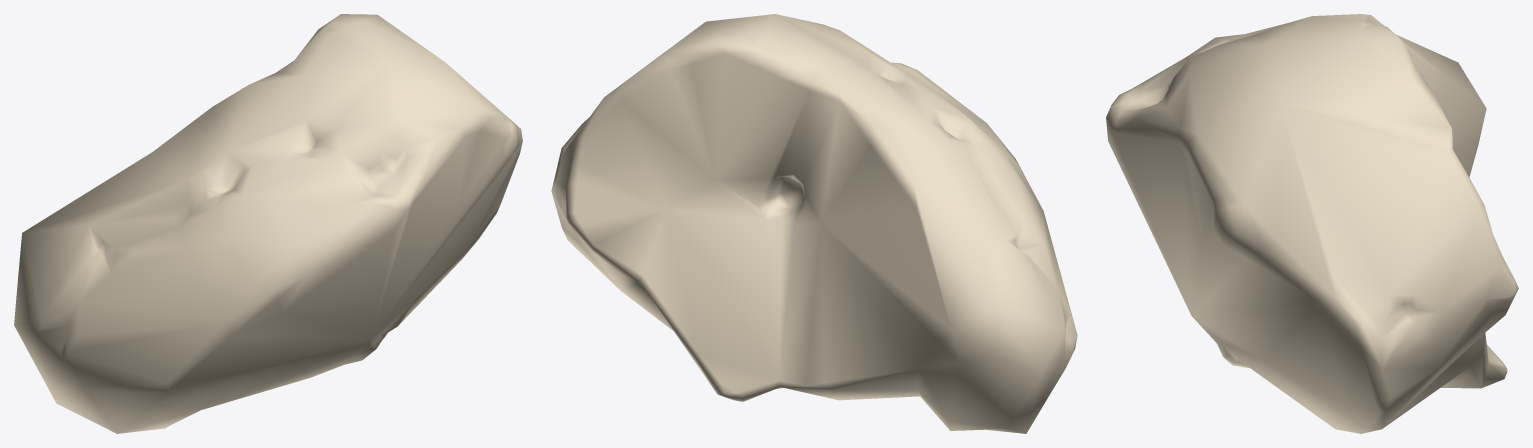
Rendered from navicular-bone-l.glb.
The picture shows the model from 3 angles, left to right: view 1: azimuth 30°, elevation 25°; view 2: azimuth 150°, elevation 25°; view 3: azimuth 270°, elevation 25°; orthographic projection. The views are drawn at different scales.
Visible parts, largest first — view 1: Navicular bone.l; view 2: Navicular bone.l; view 3: Navicular bone.l.
Boxes of the visible parts, x1,y1,x2,y2 form: Navicular bone.l: [14, 14, 522, 433]; Navicular bone.l: [551, 14, 1077, 433]; Navicular bone.l: [1106, 14, 1518, 433].
Size of the model in its own units: 0.0407 by 0.0275 by 0.024.
